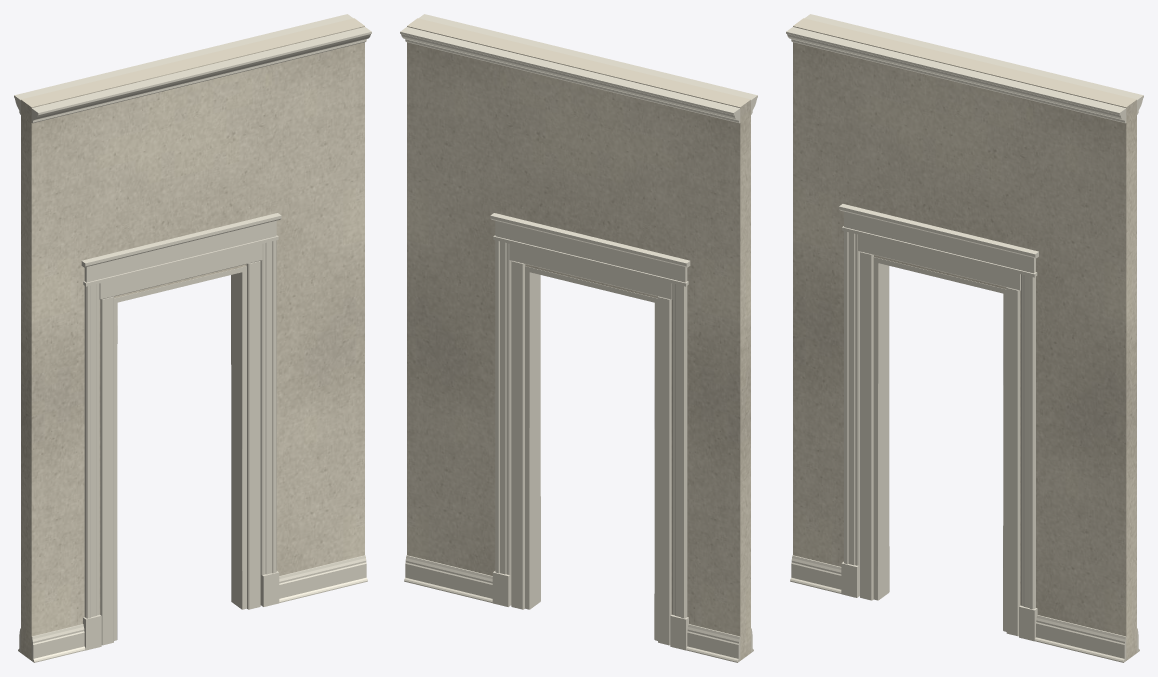
The model's file is pw_office.glb.
The picture shows the model from 3 angles, left to right: view 1: azimuth 30°, elevation 25°; view 2: azimuth 150°, elevation 25°; view 3: azimuth 330°, elevation 25°; orthographic projection.
Visible parts, largest first — view 1: pw_office_plaster, molduras, pw_office_frame; view 2: pw_office_plaster, molduras, pw_office_frame; view 3: pw_office_plaster, molduras, pw_office_frame.
Boxes of the visible parts, bbox=[...] form: pw_office_plaster: bbox=[21, 18, 364, 660]; molduras: bbox=[14, 14, 371, 662]; pw_office_frame: bbox=[99, 243, 262, 645]; pw_office_plaster: bbox=[407, 18, 750, 660]; molduras: bbox=[400, 14, 757, 662]; pw_office_frame: bbox=[509, 243, 672, 645]; pw_office_plaster: bbox=[793, 18, 1136, 660]; molduras: bbox=[786, 14, 1143, 662]; pw_office_frame: bbox=[858, 234, 1020, 636].
Size of the model in its own units: 2.14 by 3.39 by 0.27.
3 materials, 1 textured.
